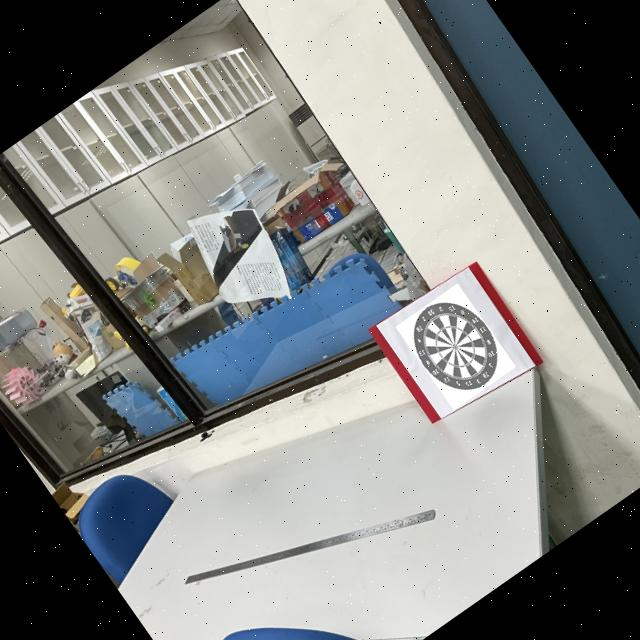archery-targets: (395, 282, 516, 410)
